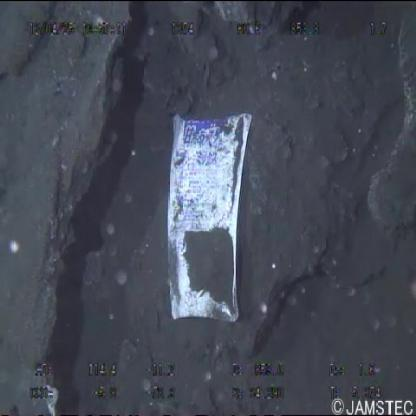Rác: (165, 111, 257, 332)
